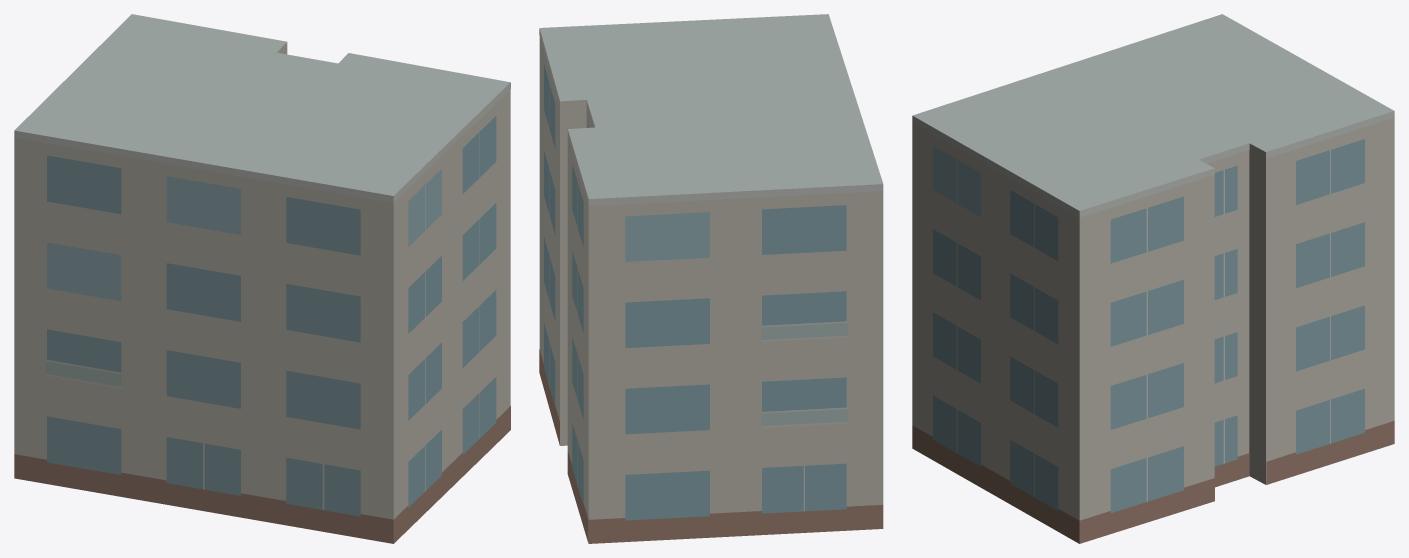
Rendered from survey-upis-32729310.glb.
3 views of the same model, side by side, from view 1: azimuth 30°, elevation 25°; view 2: azimuth 150°, elevation 25°; view 3: azimuth 270°, elevation 25° (orthographic). The views are drawn at different scales.
Parts seen in each view (by area): view 1: survey-upis-32729310.tmp; view 2: survey-upis-32729310.tmp; view 3: survey-upis-32729310.tmp.
Part boxes in pixels (bbox=[...]): survey-upis-32729310.tmp: bbox=[14, 14, 510, 543]; survey-upis-32729310.tmp: bbox=[539, 14, 883, 543]; survey-upis-32729310.tmp: bbox=[912, 14, 1394, 543].
Size of the model in its own units: 15.49 by 12.2 by 16.03.
